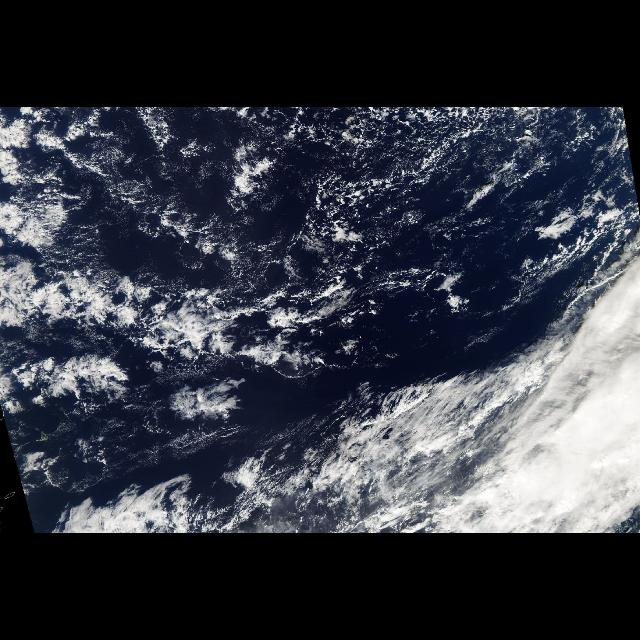Fish: (1, 262, 486, 374)
Gravel: (66, 108, 546, 252)
